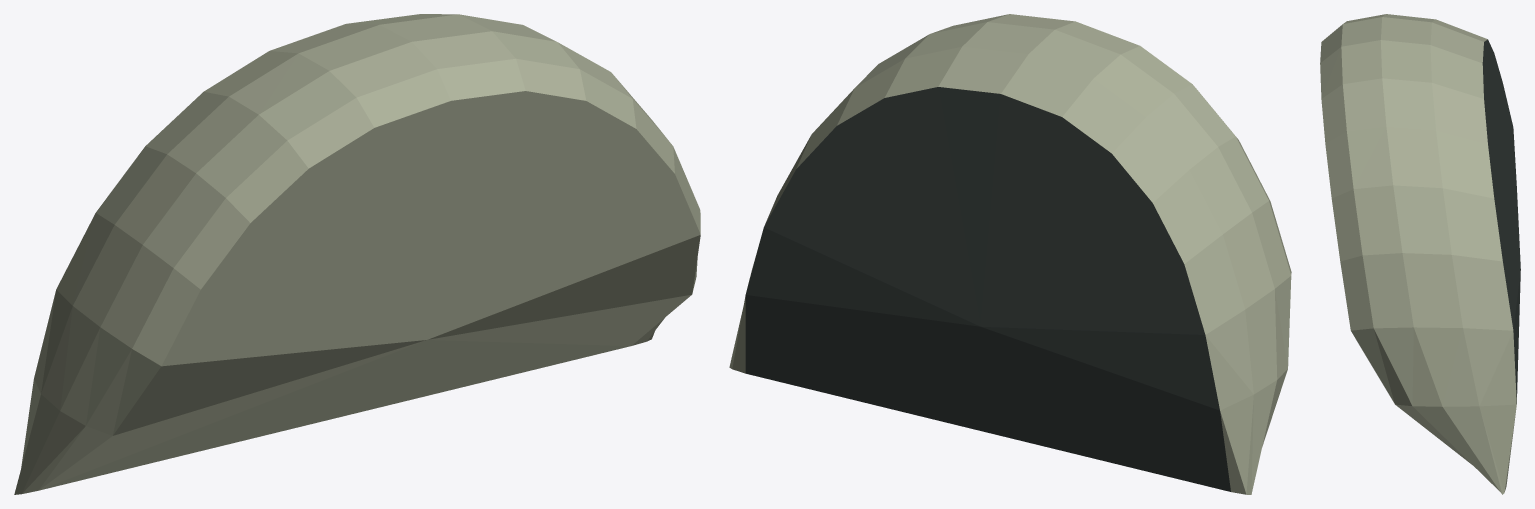
File: centipede_segment_2.obj
The picture shows the model from 3 angles, left to right: view 1: azimuth 30°, elevation 25°; view 2: azimuth 150°, elevation 25°; view 3: azimuth 270°, elevation 25°; orthographic projection. The views are drawn at different scales.
Parts seen in each view (by area): view 1: centipede_segment_2; view 2: centipede_segment_2; view 3: centipede_segment_2.
Part boxes in pixels (x1=…): centipede_segment_2: x1=14, y1=14, x2=700, y2=494; centipede_segment_2: x1=729, y1=14, x2=1291, y2=494; centipede_segment_2: x1=1320, y1=14, x2=1520, y2=494.
Bounding box in the file's own units: 1.68 × 1.09 × 0.5925.
